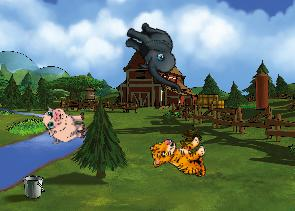elephant: (113, 18, 197, 93)
pig: (43, 104, 86, 144)
tiger: (148, 130, 211, 186)
